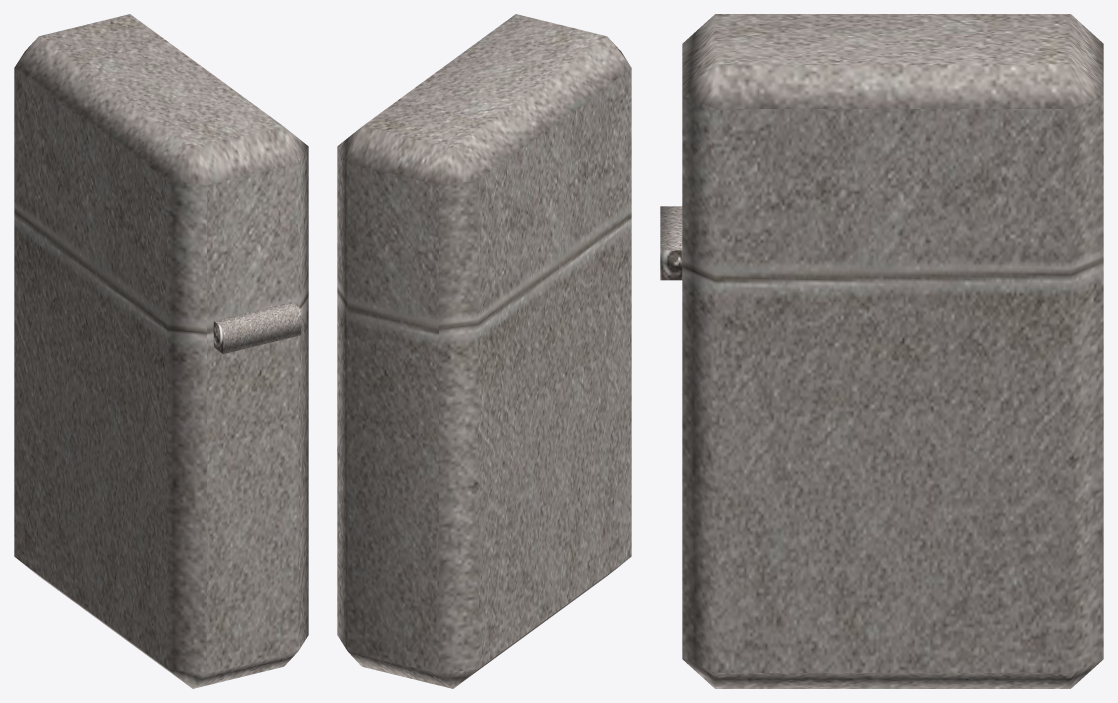
Rendered from Lighter.fbx.
3 views of the same model, side by side, from view 1: azimuth 30°, elevation 25°; view 2: azimuth 150°, elevation 25°; view 3: azimuth 270°, elevation 25° (orthographic). The views are drawn at different scales.
Visible parts, largest first — view 1: Lighter; view 2: Lighter; view 3: Lighter.
Boxes of the visible parts, x1,y1,x2,y2 form: Lighter: [14, 14, 308, 688]; Lighter: [337, 14, 631, 688]; Lighter: [660, 14, 1103, 688].
Size of the model in its own units: 0.0438 by 0.1606 by 0.1035.
